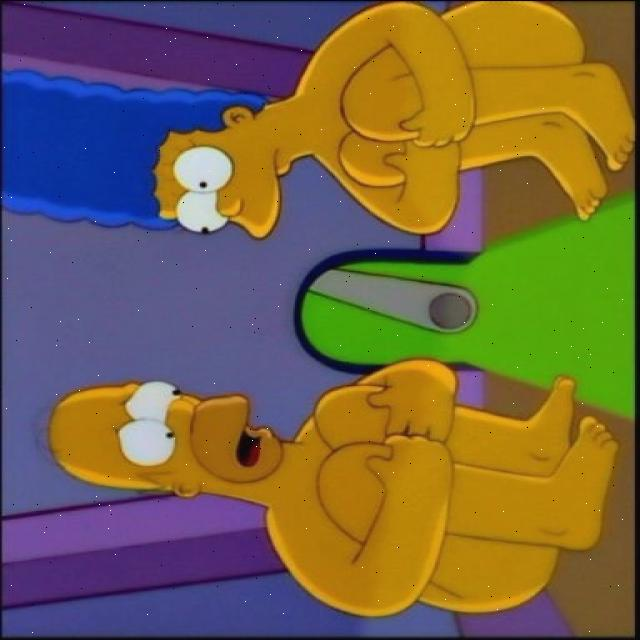Homer Simpson: (29, 376, 304, 506)
Marge Simpson: (1, 63, 337, 242)
